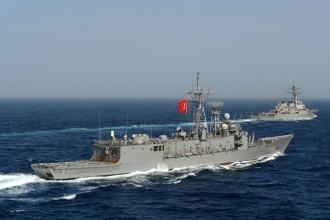warship: (31, 80, 294, 180), (246, 83, 322, 123)
